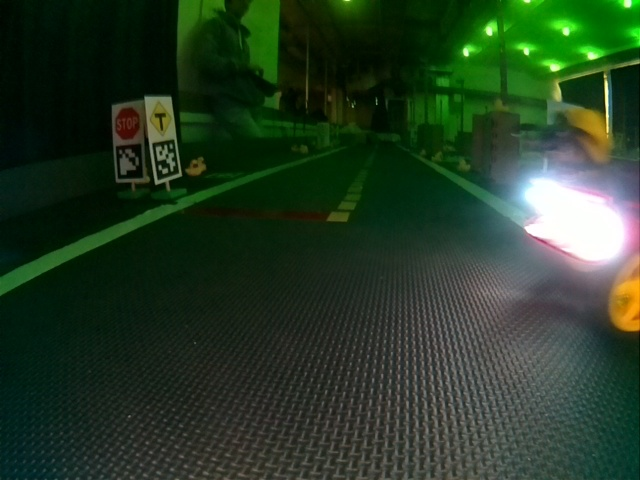Duckie: (188, 160, 200, 176), (456, 160, 471, 172)
Duckiebot: (523, 168, 639, 335)
Intersection sign: (152, 101, 173, 136)
QR code: (151, 139, 177, 181), (115, 144, 142, 180)
Stop sign: (114, 106, 139, 142)
